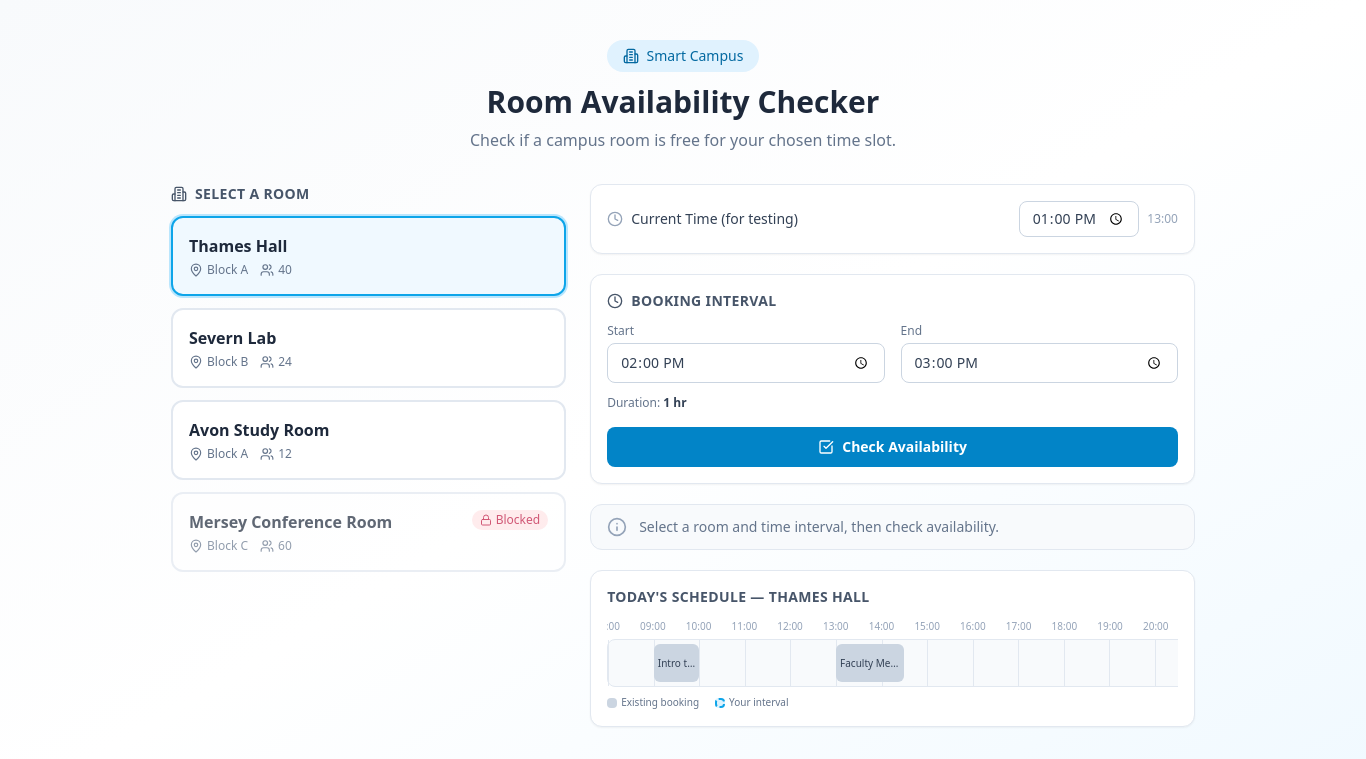
Scenario: App with an emptied time field › clearing the start field does not crash the page and is rejected with AC1
Clear the time field below "Start": point(746, 363) [607,343,885,383]
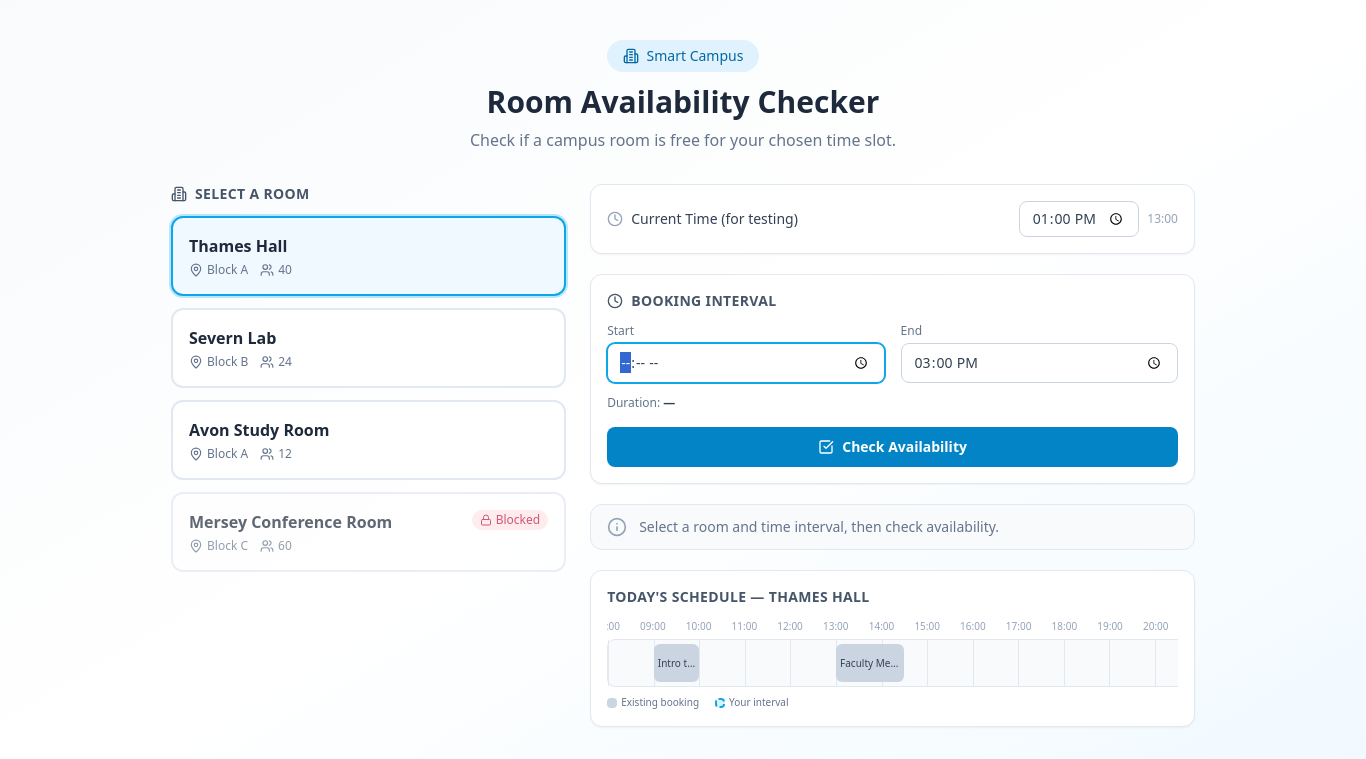
Expected: the heading "Room Availability Checker" is shown, [487,81,879,122]
Click the button "Check Availability": point(893, 447) [607,427,1178,467]
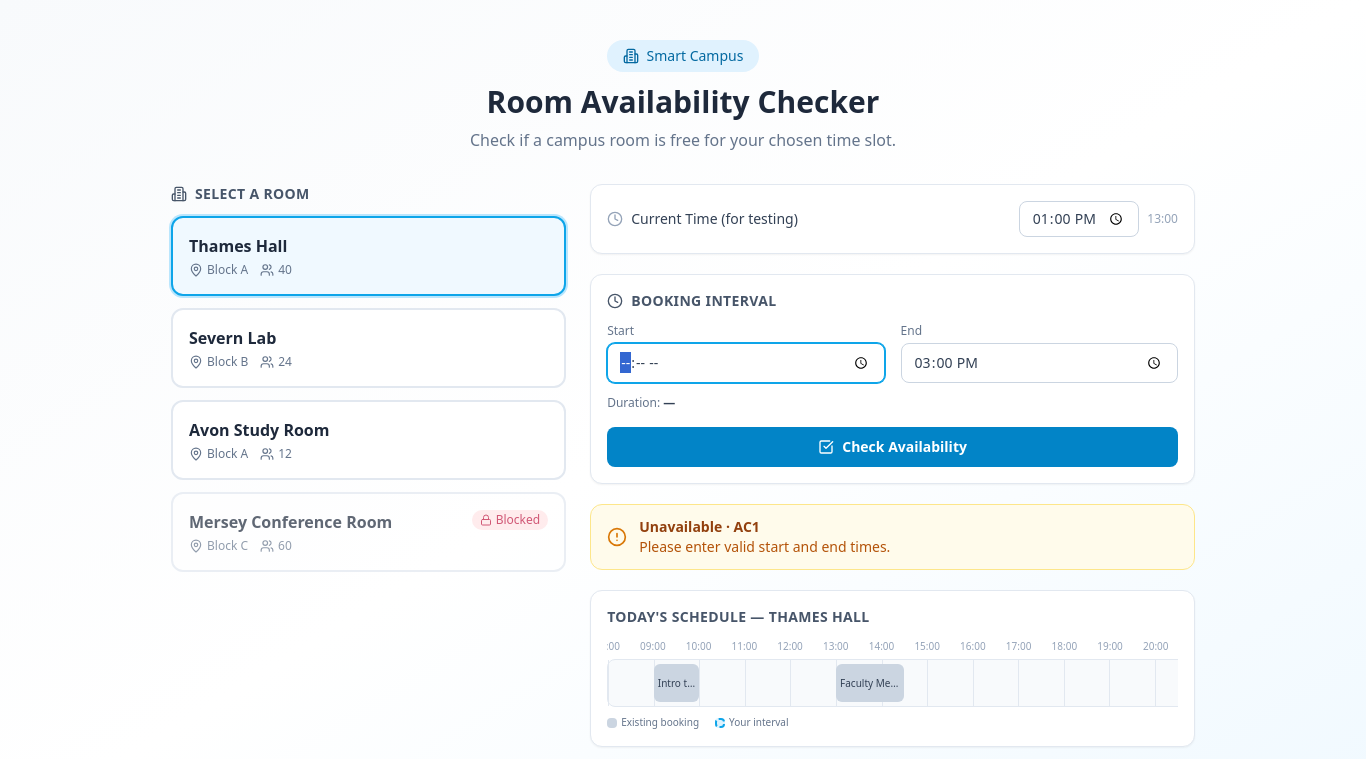
Expected: the text "Unavailable · AC1" is shown, [639,517,760,536]
